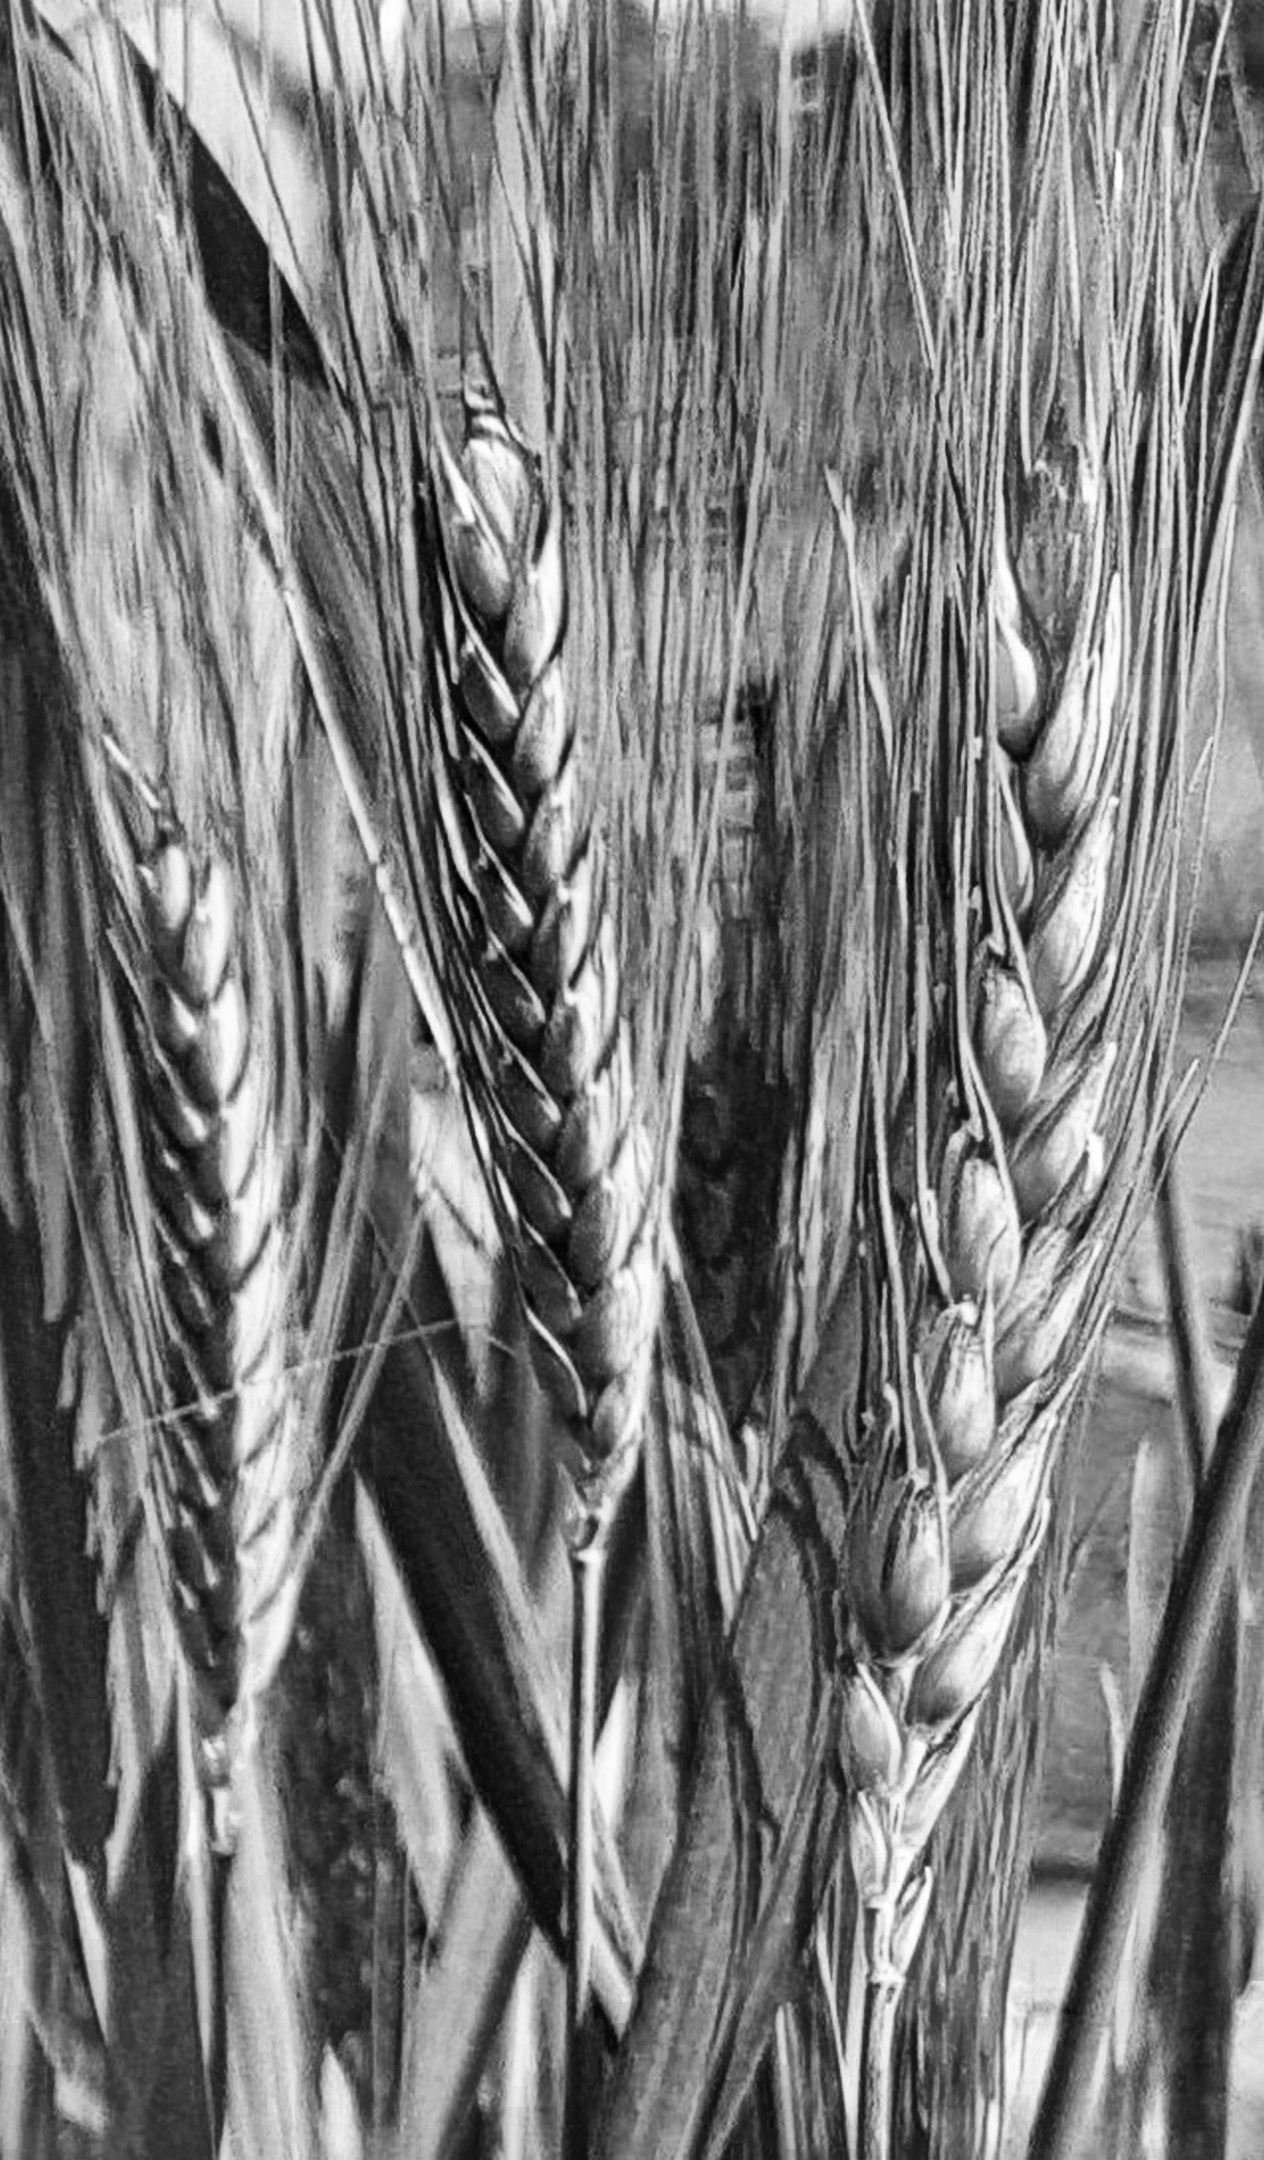Healthy Wheat: (835, 498, 1183, 1873), (403, 423, 691, 1530)
